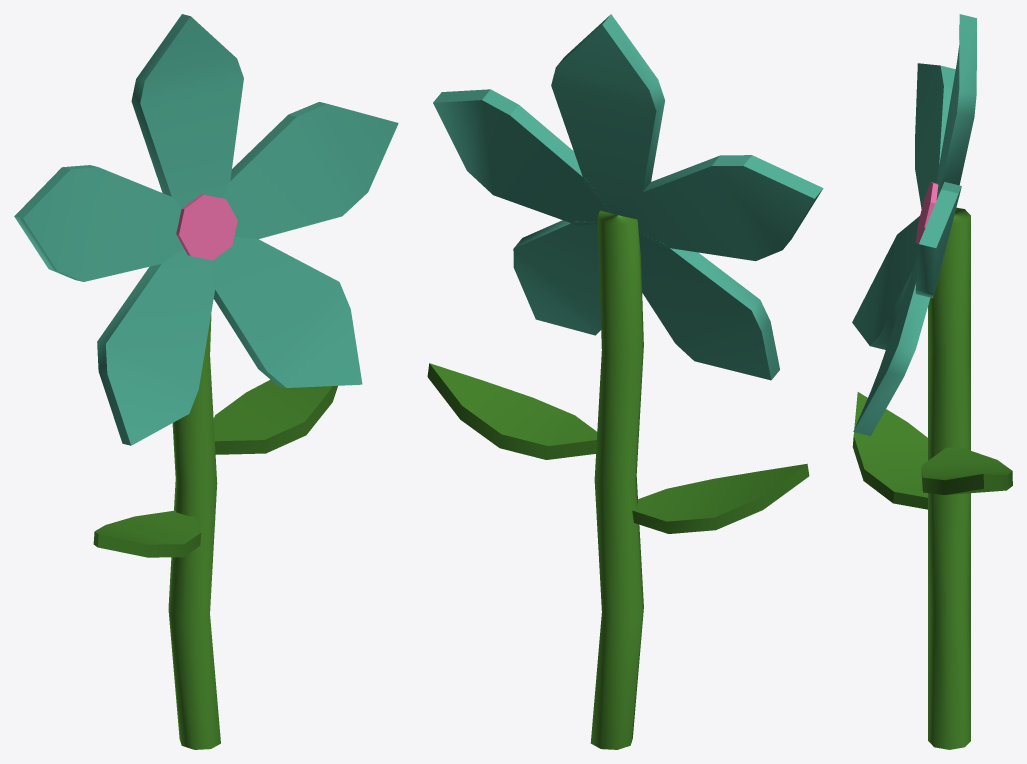
File: Flower_Turquoise_6.fbx
3 views of the same model, side by side, from view 1: azimuth 30°, elevation 25°; view 2: azimuth 150°, elevation 25°; view 3: azimuth 270°, elevation 25° (orthographic).
Visible parts, largest first — view 1: Cube.137, Cylinder.643, Plane.202, Plane.203, Cylinder.640; view 2: Cube.137, Cylinder.643, Plane.202, Plane.203; view 3: Cylinder.643, Cube.137, Plane.203, Plane.202, Cylinder.640.
Boxes of the visible parts, x1=… form: Cube.137: x1=14, y1=14, x2=398, y2=445; Cylinder.643: x1=168, y1=314, x2=220, y2=749; Plane.202: x1=213, y1=379, x2=337, y2=454; Plane.203: x1=93, y1=510, x2=201, y2=557; Cylinder.640: x1=176, y1=194, x2=237, y2=260; Cube.137: x1=433, y1=14, x2=823, y2=380; Cylinder.643: x1=590, y1=210, x2=643, y2=749; Plane.202: x1=427, y1=363, x2=597, y2=459; Plane.203: x1=632, y1=463, x2=809, y2=533; Cylinder.643: x1=928, y1=207, x2=970, y2=749; Cube.137: x1=852, y1=14, x2=976, y2=435; Plane.203: x1=852, y1=392, x2=927, y2=509; Plane.202: x1=921, y1=446, x2=1012, y2=494; Cylinder.640: x1=915, y1=182, x2=938, y2=244.
Bounding box in the file's own units: 71.56 × 131 × 26.41.
